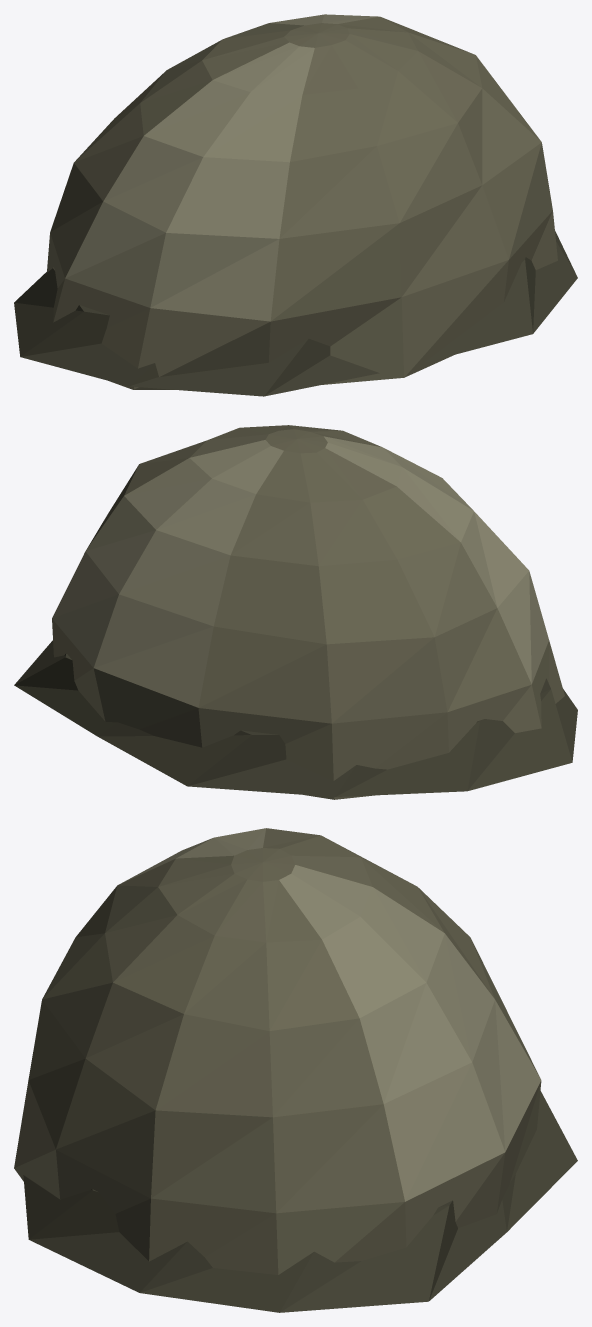
File: cocoon_megascarab_1.obj
3 renders of one model, top to bottom at view 1: azimuth 30°, elevation 25°; view 2: azimuth 150°, elevation 25°; view 3: azimuth 270°, elevation 25°, orthographic. The views are drawn at different scales.
Parts seen in each view (by area): view 1: cocoon_megascarab_1; view 2: cocoon_megascarab_1; view 3: cocoon_megascarab_1.
Part boxes in pixels (x1,y1,x2,y2): cocoon_megascarab_1: (14,14,577,396); cocoon_megascarab_1: (14,425,577,799); cocoon_megascarab_1: (14,828,577,1312).
Size of the model in its own units: 0.8875 by 0.42 by 0.6782.
